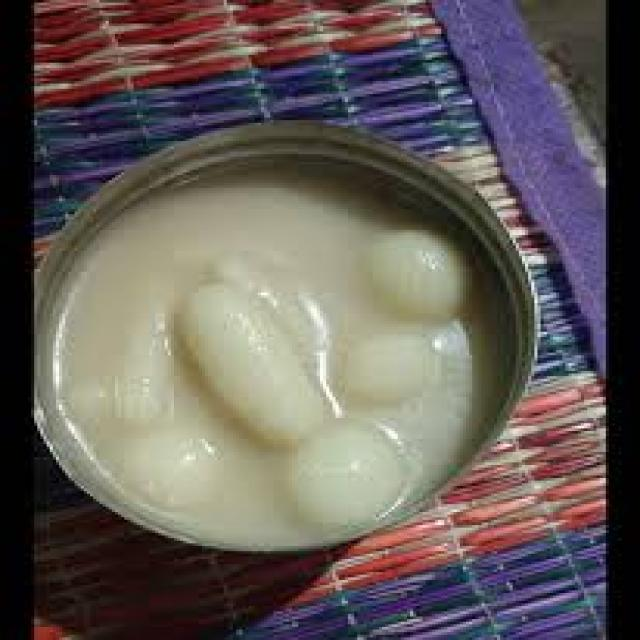paal kolukattai: (49, 153, 499, 544)
